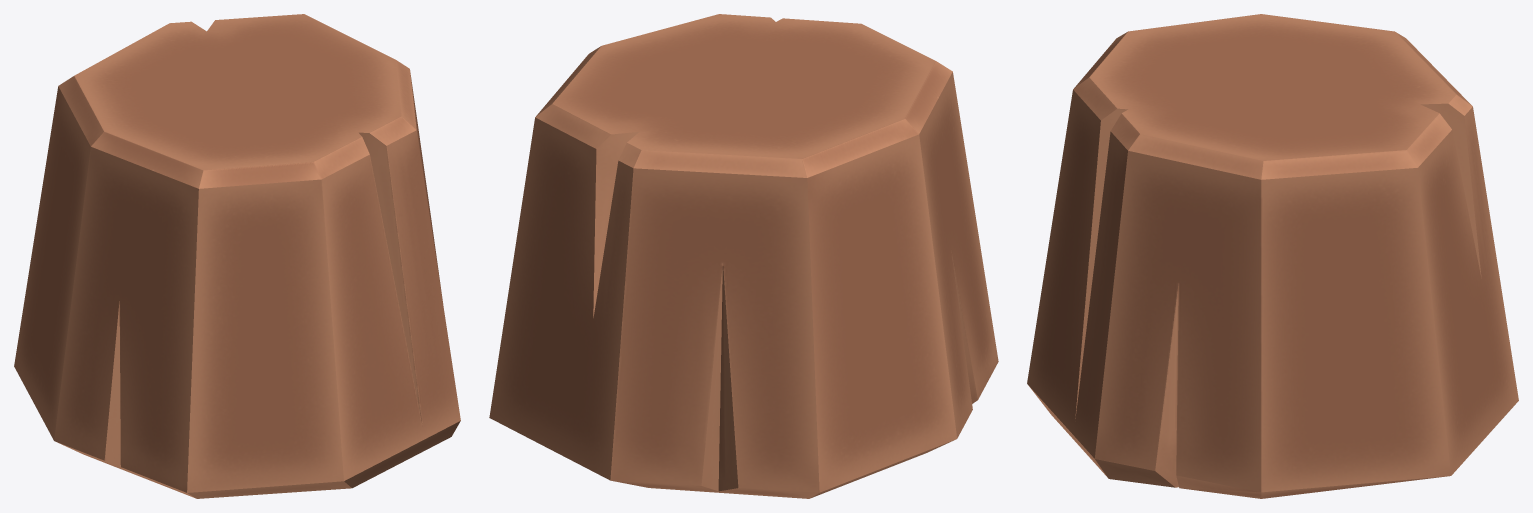
File: small_rock_04.glb
3 views of the same model, side by side, from view 1: azimuth 30°, elevation 25°; view 2: azimuth 150°, elevation 25°; view 3: azimuth 270°, elevation 25° (orthographic). The views are drawn at different scales.
Parts seen in each view (by area): view 1: Cube.011_Small_rock_2_0; view 2: Cube.011_Small_rock_2_0; view 3: Cube.011_Small_rock_2_0.
Part boxes in pixels (box(x1,y1,x2,y2)): Cube.011_Small_rock_2_0: box(14, 14, 460, 498); Cube.011_Small_rock_2_0: box(489, 14, 998, 498); Cube.011_Small_rock_2_0: box(1027, 14, 1518, 498).
Size of the model in its own units: 2.59 by 2 by 2.72.
Materials: 1 (1 with a texture image).
